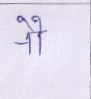au_matra: (23, 16, 48, 55)
